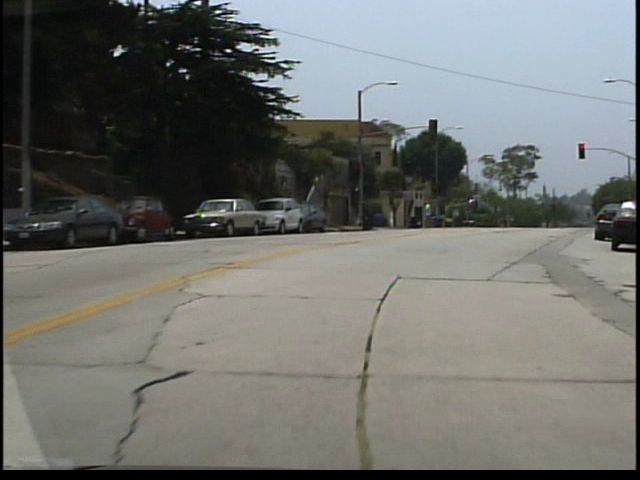person: (426, 200, 438, 230)
